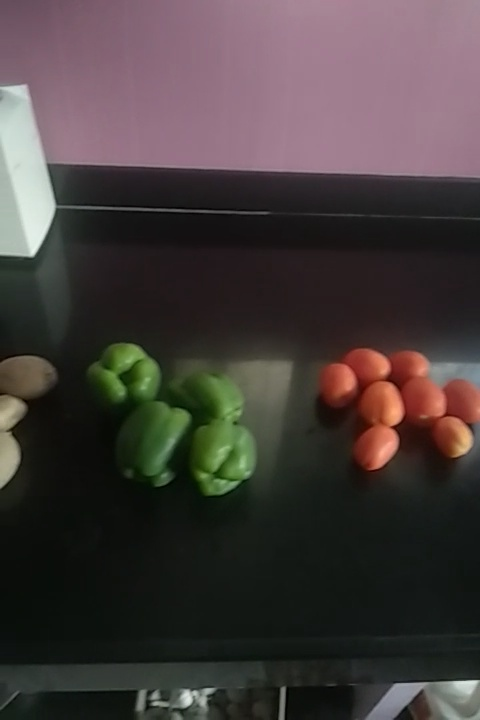capsicum: (117, 401, 190, 490), (168, 364, 249, 428), (84, 341, 162, 403), (184, 422, 247, 496)
potato: (1, 351, 55, 400), (1, 432, 27, 485), (1, 390, 28, 432)
tomato: (356, 423, 405, 478), (400, 380, 446, 435), (337, 341, 391, 387), (435, 372, 480, 422), (427, 416, 469, 462), (363, 385, 404, 429), (384, 349, 430, 387), (315, 360, 352, 403)
